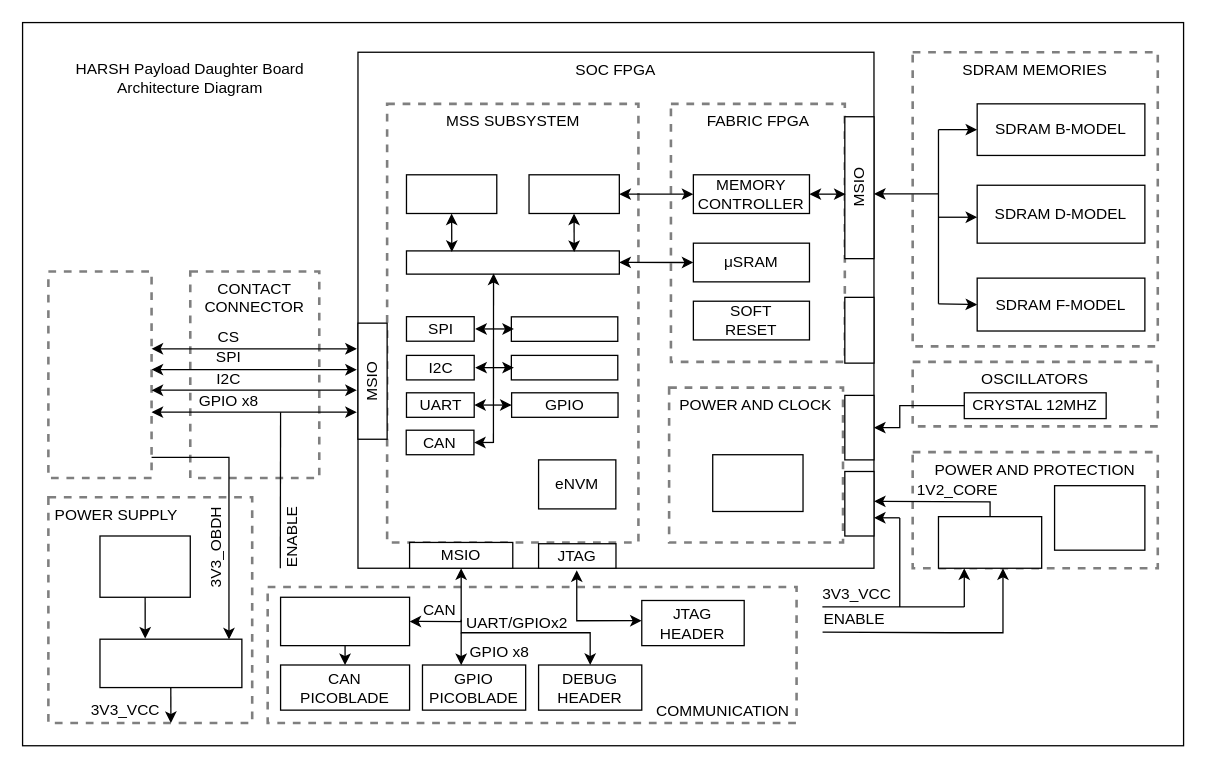
Some shapes in this 1206 by 769 pixel diagram are drawn without their labels. The shapes that lost their labels are listed below. From the top down, each one's centre as x and y in pixels, then its label:
At (451,193): "ARM μP".
At (573,193): "DDR BRIDGE".
At (512,262): "AHB BUS".
At (564,328): "WATCHDOG".
At (859,329): "RESET".
At (99,374): "OBDH 2.0".
At (564,367): "TIMER".
At (859,427): "CLOCK".
At (757,482): "INTERNAL CLOCK 50MHZ".
At (859,503): "POWER".
At (1099,517): "ANTI LATCH-UP CIRCUITS".
At (989,541): "VOLTAGE CONVERTER".
At (144,566): "EXTERNAL SUPPLY HEADER".
At (344,621): "CAN TRANSCEIVER".
At (170,663): "SUPPLY SELECTOR".
